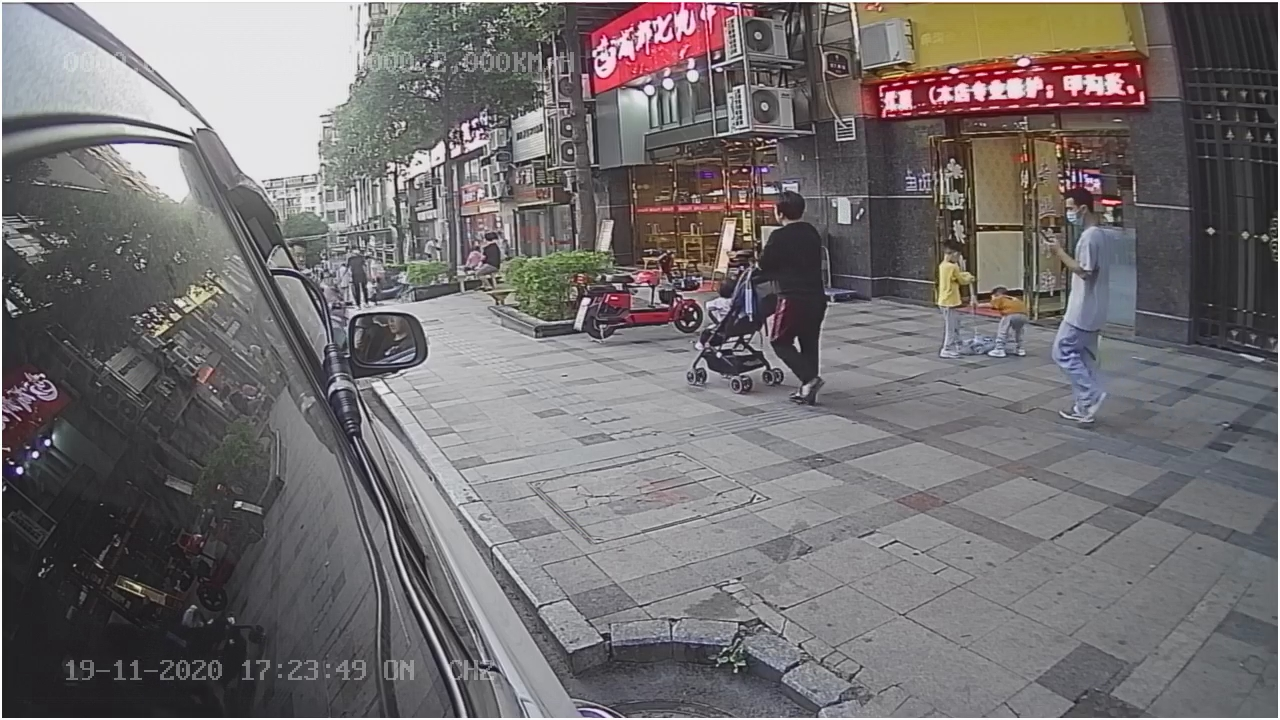person: (749, 189, 833, 409), (1048, 189, 1119, 423), (927, 236, 977, 362), (978, 281, 1033, 359)
